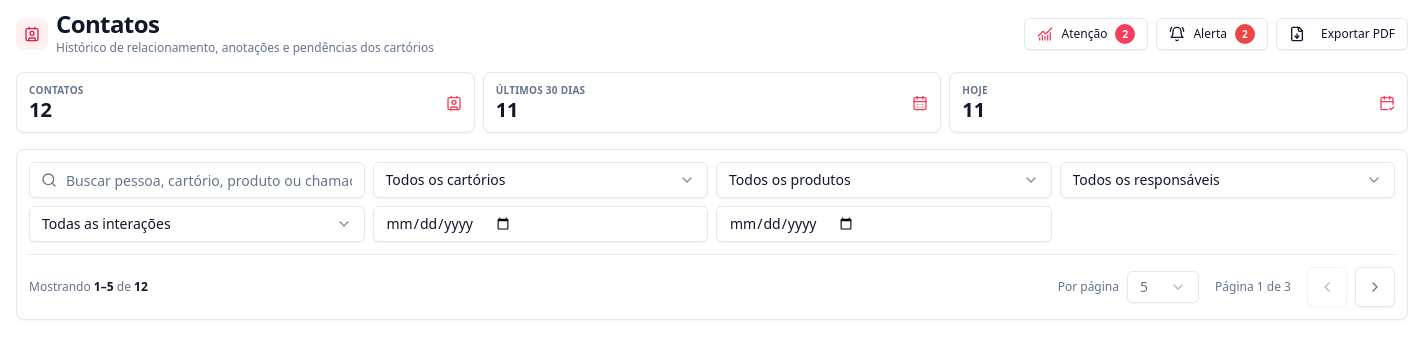
Test case: CS/CX contatos e agendamentos — permissões › pagina a lista de contatos em blocos compactos
expect the element named "Mostrando 1 a 5 de 12 contatos" is shown: met, box [29,279,148,295]
Click the button named "próxima página" at (1375, 287), box [1355,267,1395,307]
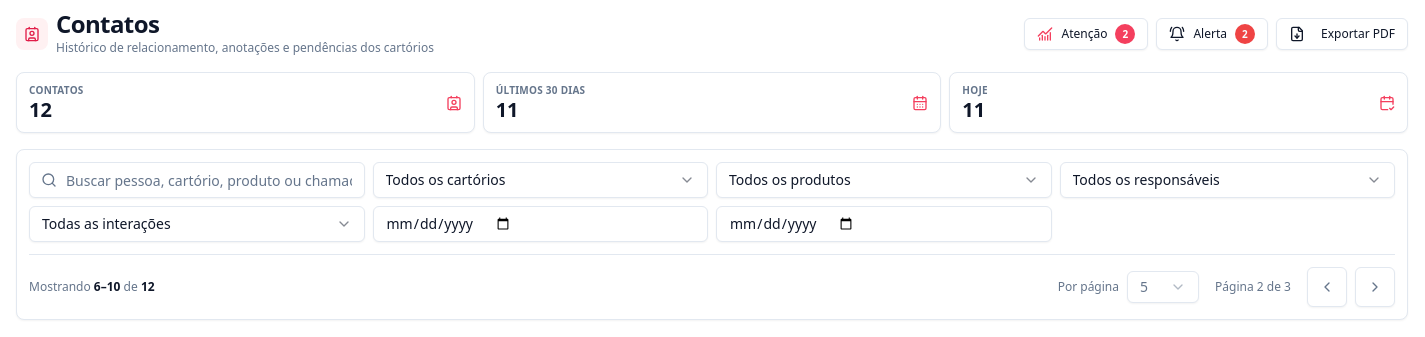
expect the element named "Mostrando 6 a 10 de 12 contatos" is shown: met, box [29,279,155,295]
